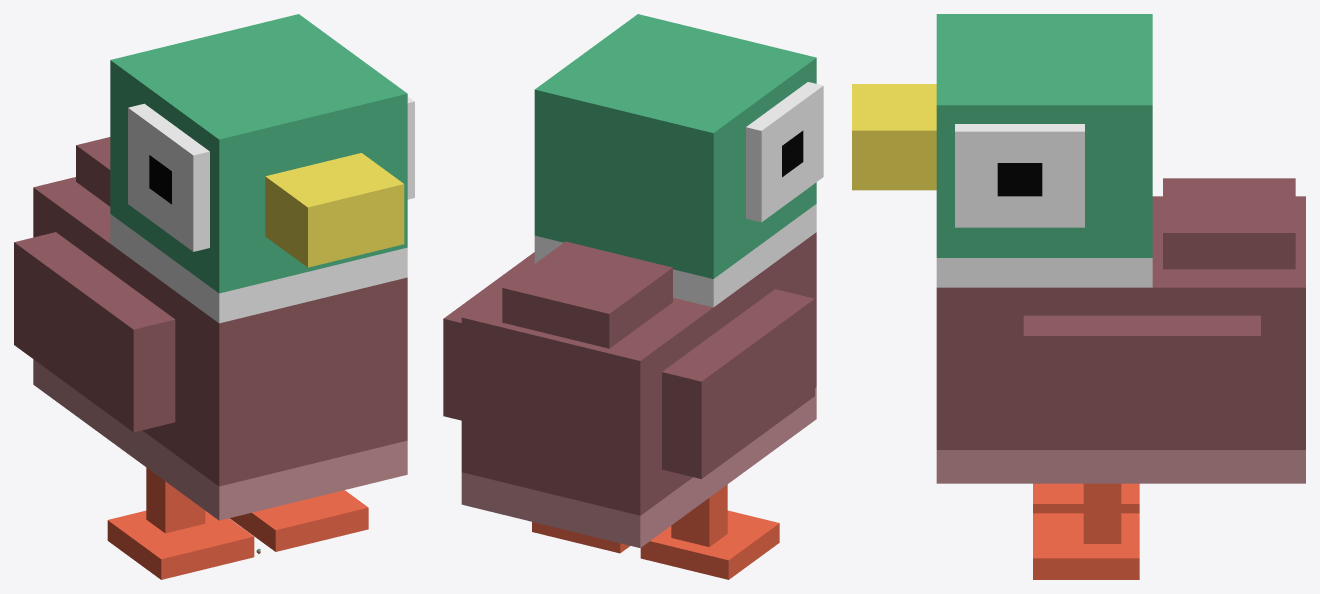
File: mallard.gltf
3 renders of one model, left to right at view 1: azimuth 30°, elevation 25°; view 2: azimuth 150°, elevation 25°; view 3: azimuth 270°, elevation 25°, orthographic. The views are drawn at different scales.
Parts seen in each view (by area): view 1: pCube1_phong1_0, pCube1_phong6_0, pCube1_phong4_0, pCube1_phong8_0, pCube1_phong3_0, pCube1_phong7_0, pCube1_phong5_0; view 2: pCube1_phong1_0, pCube1_phong6_0, pCube1_phong4_0, pCube1_phong7_0, pCube1_phong8_0, pCube1_phong5_0; view 3: pCube1_phong1_0, pCube1_phong6_0, pCube1_phong4_0, pCube1_phong7_0, pCube1_phong8_0, pCube1_phong3_0, pCube1_phong5_0.
Part boxes in pixels (left/top/right/bottom): pCube1_phong1_0: left=14, top=137, right=407, bottom=486; pCube1_phong6_0: left=110, top=14, right=407, bottom=293; pCube1_phong4_0: left=110, top=96, right=414, bottom=323; pCube1_phong8_0: left=107, top=467, right=368, bottom=579; pCube1_phong3_0: left=265, top=153, right=404, bottom=267; pCube1_phong7_0: left=33, top=359, right=407, bottom=520; pCube1_phong5_0: left=149, top=155, right=171, bottom=204; pCube1_phong1_0: left=443, top=232, right=816, bottom=515; pCube1_phong6_0: left=534, top=14, right=816, bottom=278; pCube1_phong4_0: left=534, top=82, right=823, bottom=307; pCube1_phong7_0: left=461, top=387, right=816, bottom=547; pCube1_phong8_0: left=532, top=484, right=779, bottom=579; pCube1_phong5_0: left=782, top=130, right=803, bottom=177; pCube1_phong1_0: left=936, top=178, right=1305, bottom=449; pCube1_phong6_0: left=936, top=14, right=1152, bottom=257; pCube1_phong4_0: left=936, top=124, right=1152, bottom=287; pCube1_phong7_0: left=936, top=450, right=1305, bottom=483; pCube1_phong8_0: left=1033, top=483, right=1139, bottom=579; pCube1_phong3_0: left=852, top=84, right=936, bottom=190; pCube1_phong5_0: left=997, top=163, right=1042, bottom=196.
Bounding box in the file's own units: 1.44 × 2.42 × 2.1.
